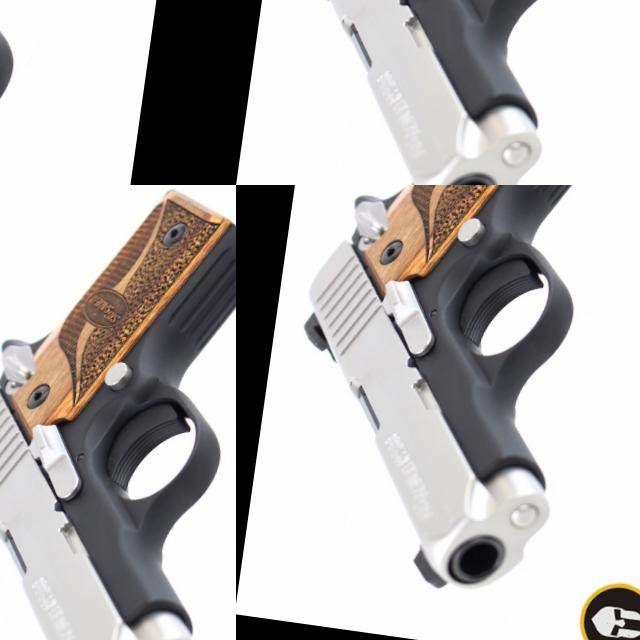handgun: (266, 185, 633, 608), (0, 185, 236, 640), (350, 0, 476, 59), (0, 0, 27, 51)
